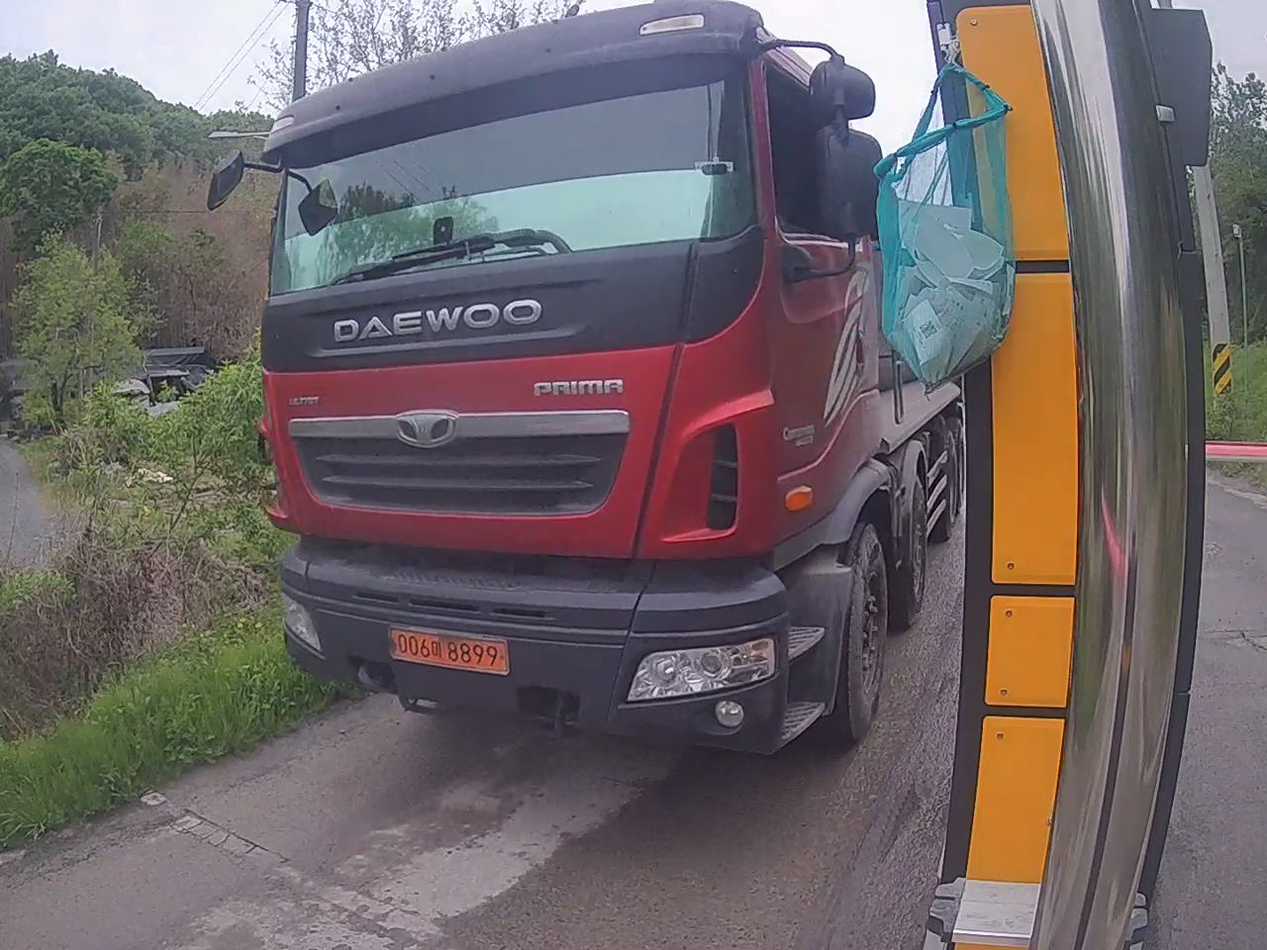license_plate: (391, 629, 507, 674)
truck: (208, 0, 963, 751)
